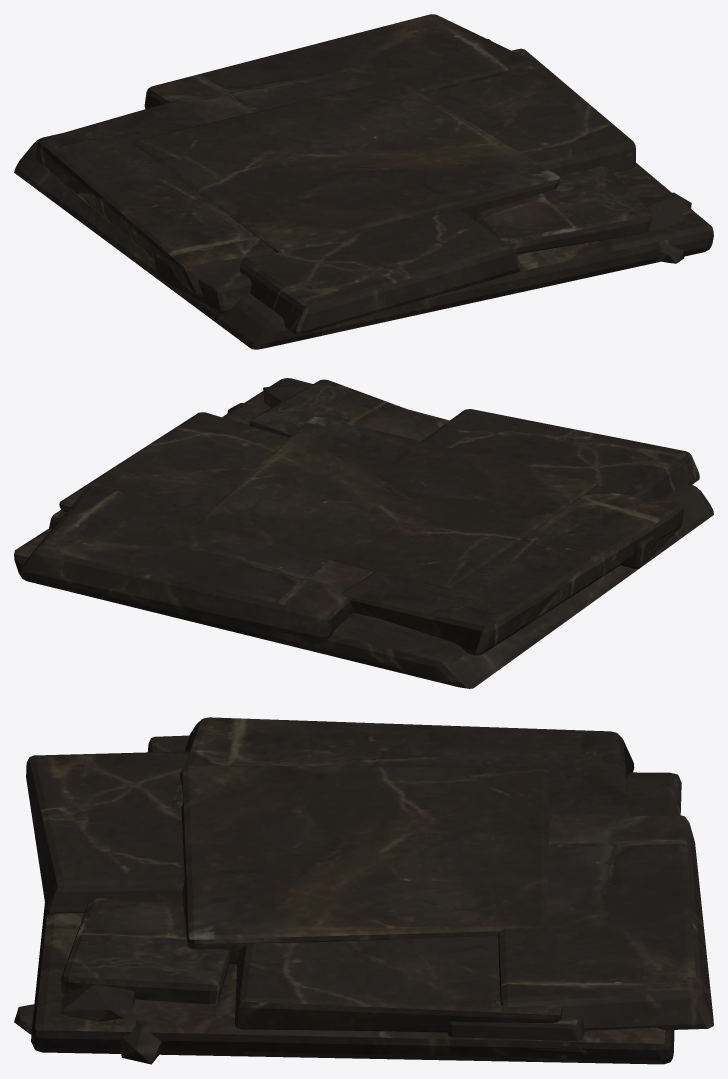
Rendered from ruin_foundation_slab.glb.
The picture shows the model from 3 angles, top to bottom: view 1: azimuth 30°, elevation 25°; view 2: azimuth 150°, elevation 25°; view 3: azimuth 270°, elevation 25°; orthographic projection. The views are drawn at different scales.
Parts seen in each view (by area): view 1: ruin_foundation_slab; view 2: ruin_foundation_slab; view 3: ruin_foundation_slab.
Boxes of the visible parts, bbox=[...] form: ruin_foundation_slab: bbox=[14, 14, 713, 349]; ruin_foundation_slab: bbox=[14, 378, 713, 688]; ruin_foundation_slab: bbox=[14, 717, 713, 1064].
Size of the model in its own units: 4 by 0.4199 by 4.
Materials: 1 (1 with a texture image).
